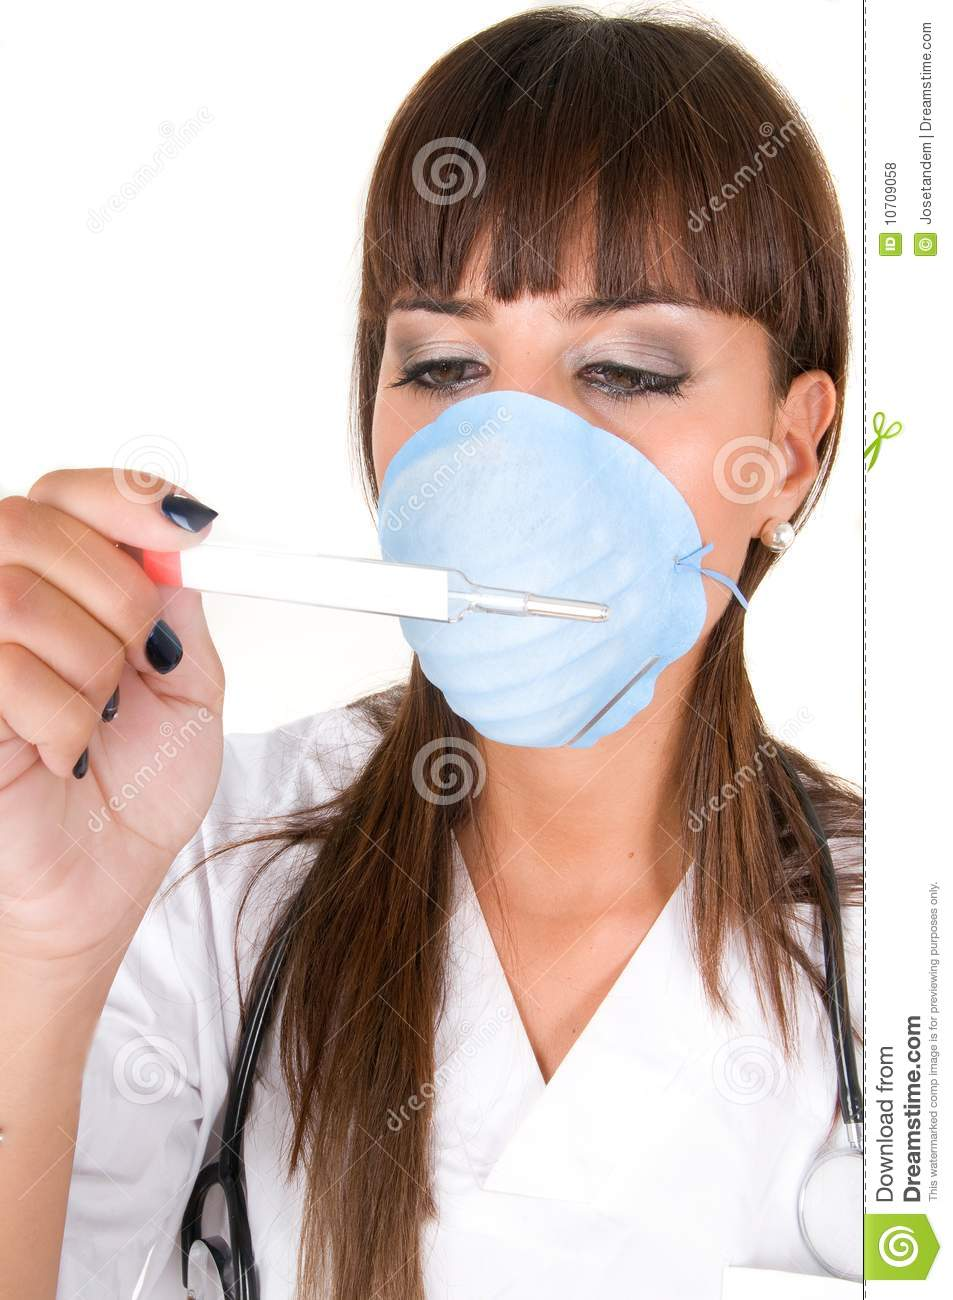mask: (350, 393, 728, 745)
